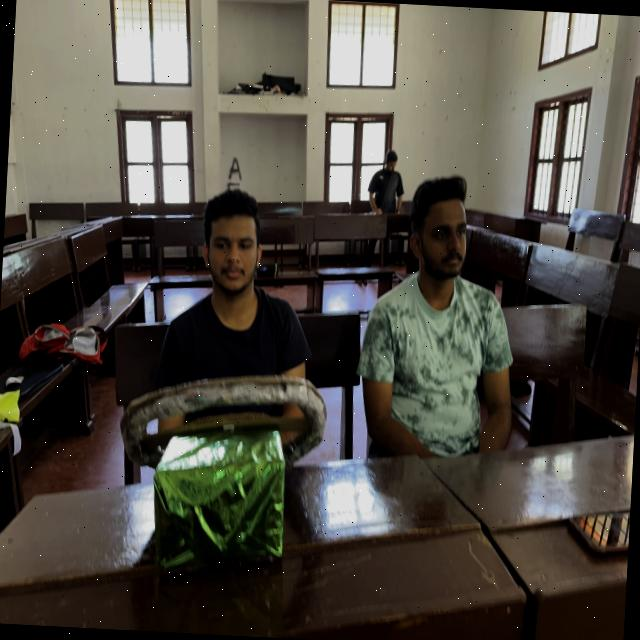Helmet: (354, 276, 522, 470), (157, 290, 315, 488)
